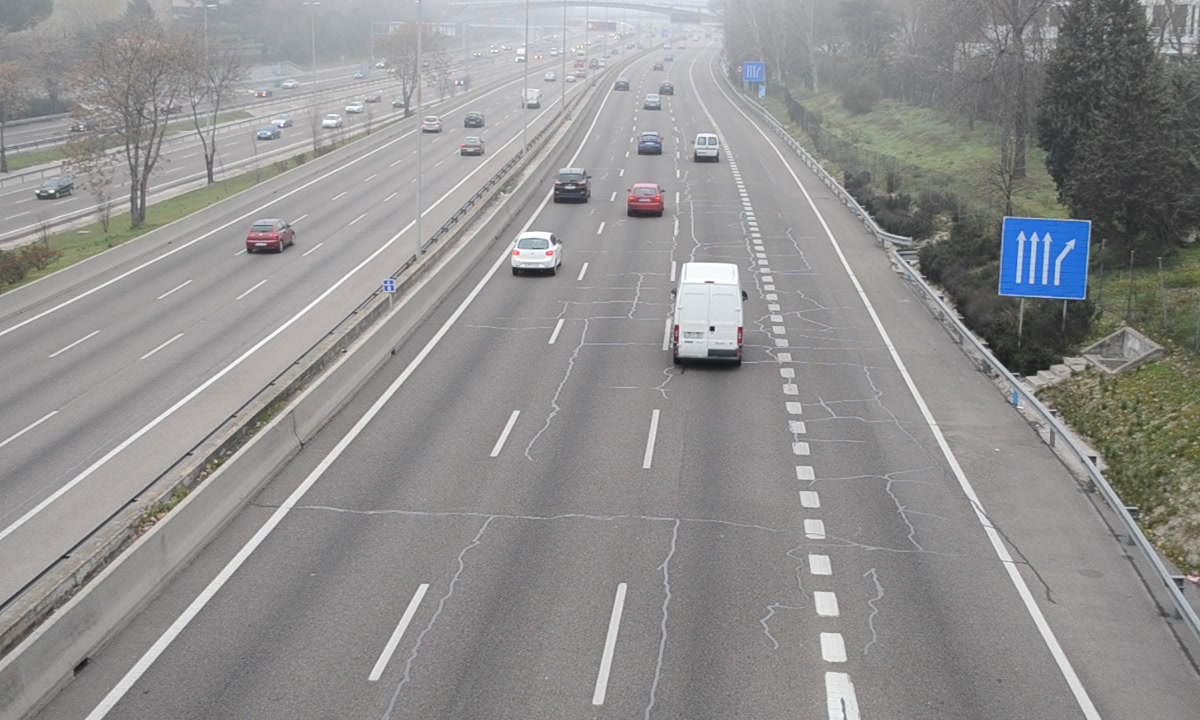car: (509, 233, 562, 273), (552, 168, 591, 205), (628, 183, 664, 219), (637, 130, 663, 157)
van: (672, 262, 746, 367), (693, 133, 722, 163)
